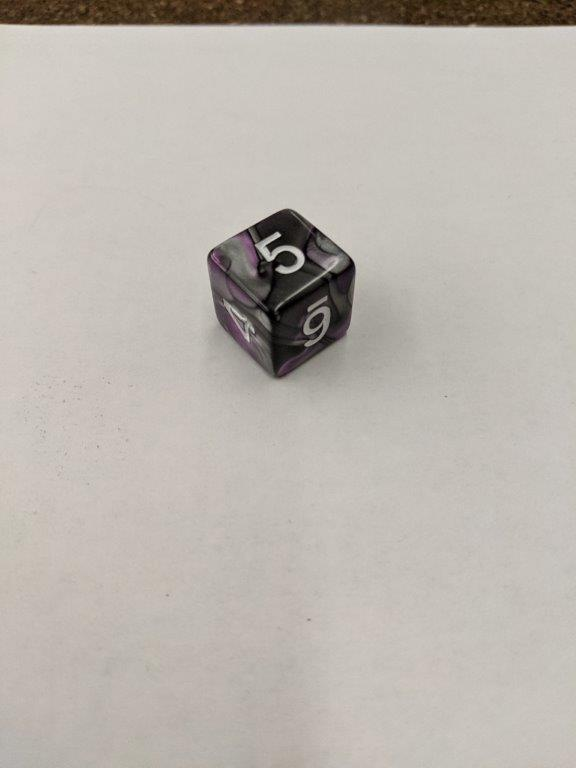d6-5: (207, 208, 355, 377)
